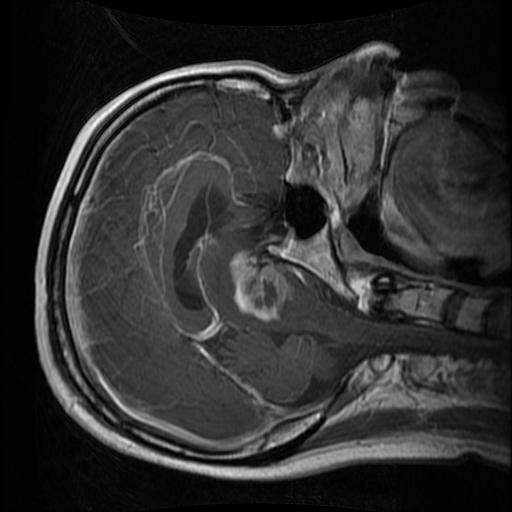glioma: (224, 247, 296, 323)
